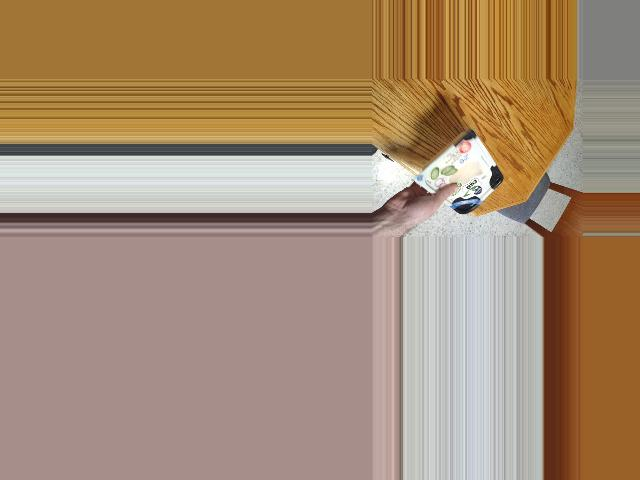cheese: (421, 142, 501, 203)
